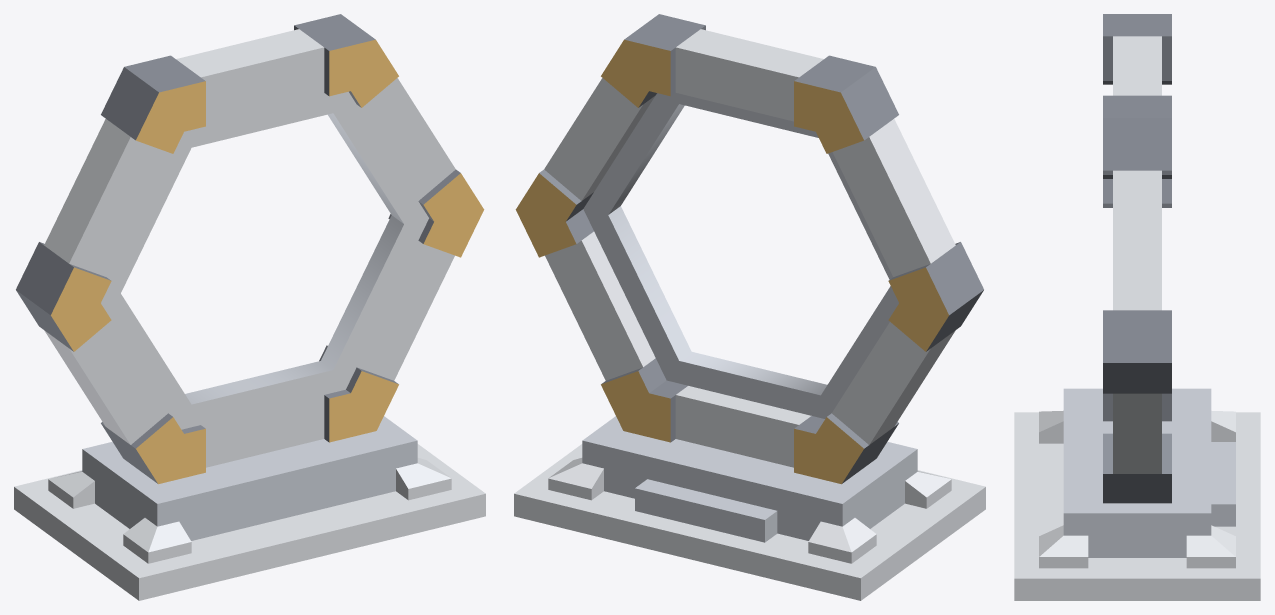
File: gate_complex.glb
3 views of the same model, side by side, from view 1: azimuth 30°, elevation 25°; view 2: azimuth 150°, elevation 25°; view 3: azimuth 270°, elevation 25° (orthographic).
Visible parts, largest first — view 1: gate_complex; view 2: gate_complex; view 3: gate_complex.
Part boxes in pixels (left/top/right/bottom): gate_complex: left=14, top=14, right=485, bottom=600; gate_complex: left=514, top=14, right=985, bottom=600; gate_complex: left=1014, top=14, right=1260, bottom=600.
Size of the model in its own units: 1 by 1.01 by 0.5.
1 material, 1 textured.
